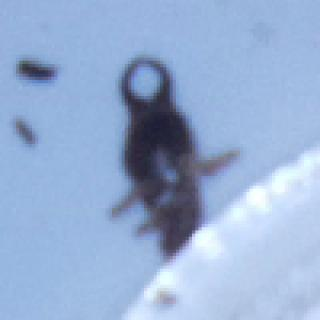earwig: (105, 46, 235, 270)
